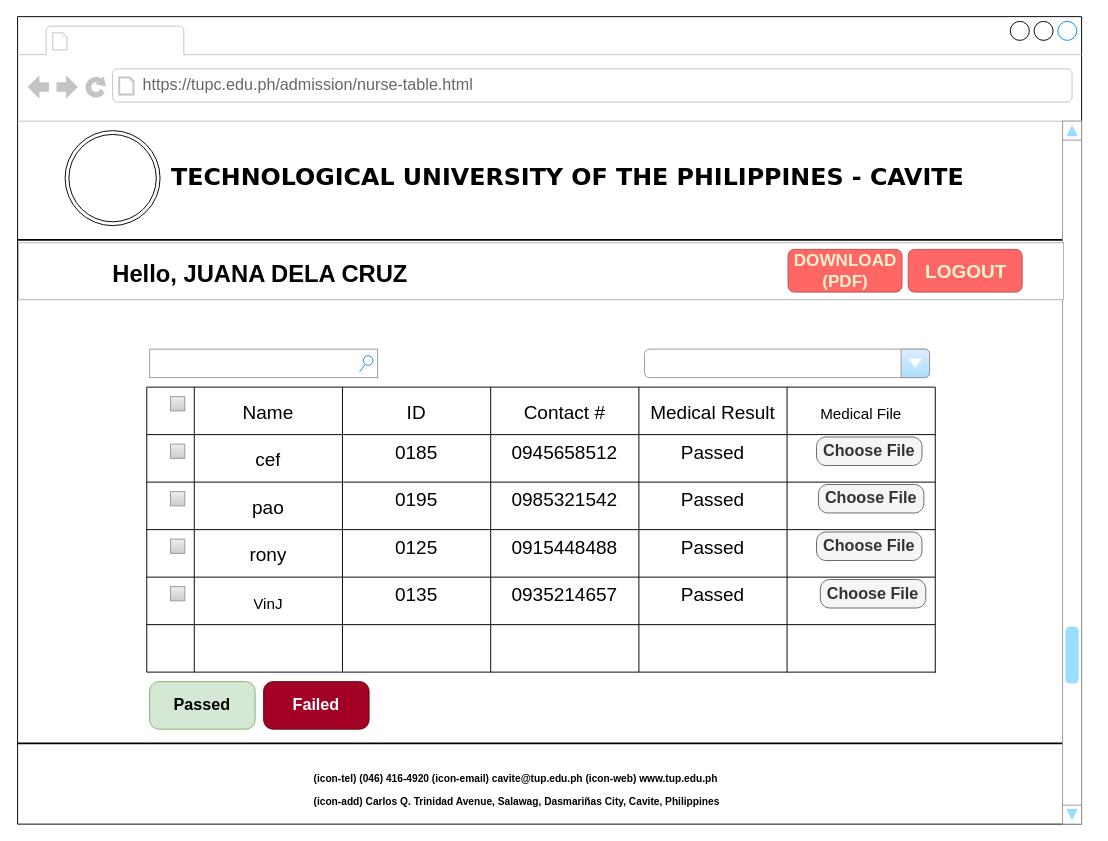
The diagram is 1108 pixels wide and 841 high, and some of its shapes have lost their labels. The centre of each missing label's shape, as x and y in pixels:
Course Selection: the point at 787,363
LOGO: the point at 112,178
Page 1: the point at 126,40
Search: the point at 263,363
